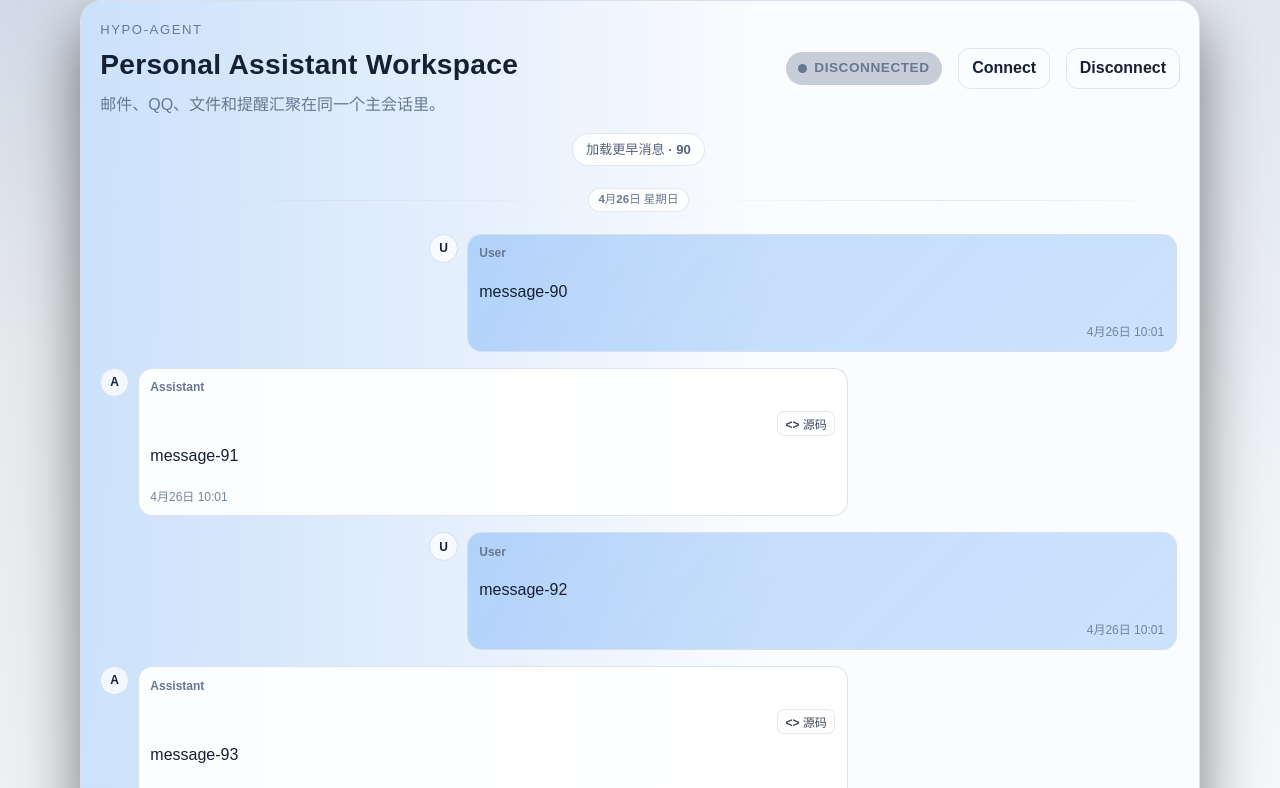
Test: ChatView › paginates long chat history so only the latest messages render initially
The width and height of the screenshot is (1280, 788).
Expected: the text "message-0" is not shown
What coordinates should you click on to do the following:
click the button with test id "load-older-messages"
I would click on:
 (638, 149)
Its box is [572,132,705,166].
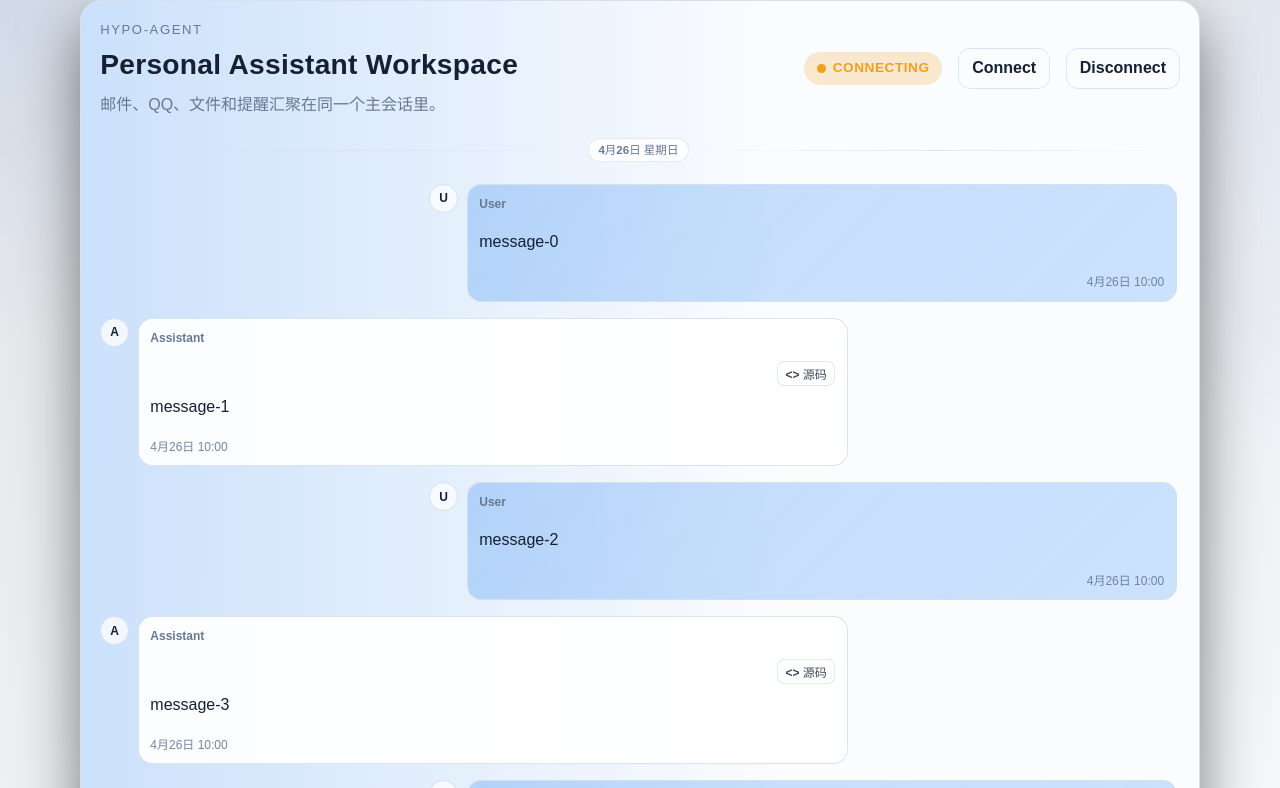
Now the text "message-0" is shown, box [479,233,558,250]
